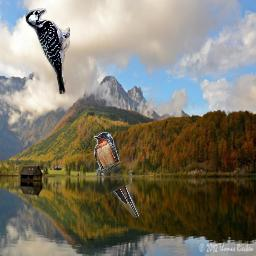Swallow: (94, 132, 139, 218)
Woodpecker: (25, 7, 70, 94)
